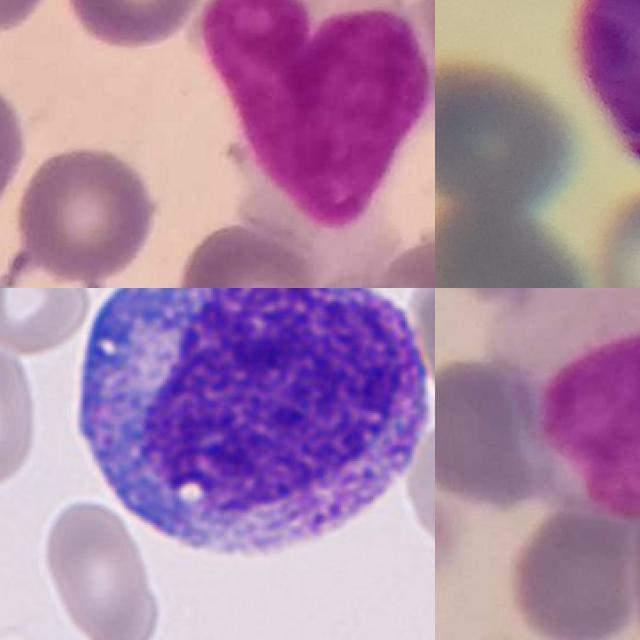Basophil: (580, 0, 640, 214)
Lymphocyte: (61, 288, 435, 576)
Monocyte: (202, 0, 435, 234), (502, 288, 640, 524)
RBC: (14, 480, 236, 640), (37, 495, 165, 640), (0, 288, 97, 358), (0, 335, 42, 493), (401, 411, 435, 564)
